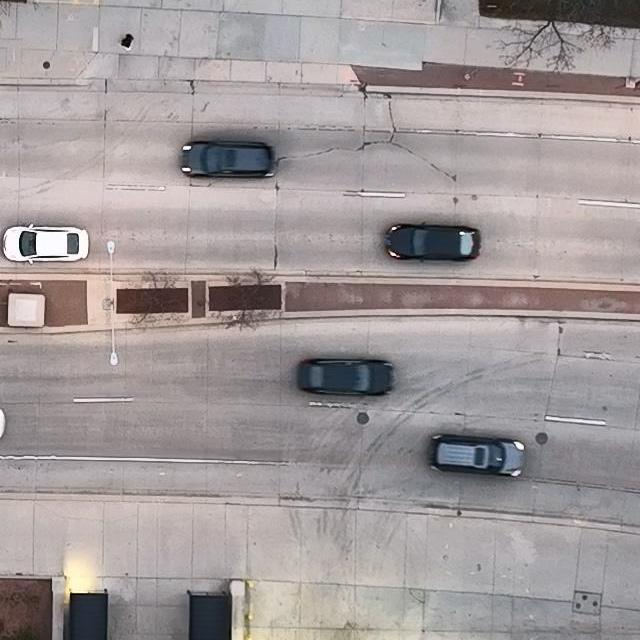car: (428, 434, 525, 479), (385, 220, 481, 264), (297, 358, 396, 397), (180, 138, 273, 179), (1, 222, 90, 264)
